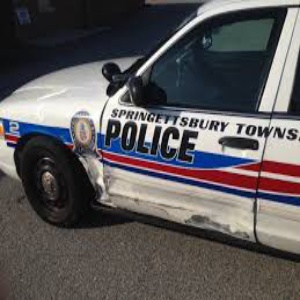door_scratch: (180, 201, 272, 243)
